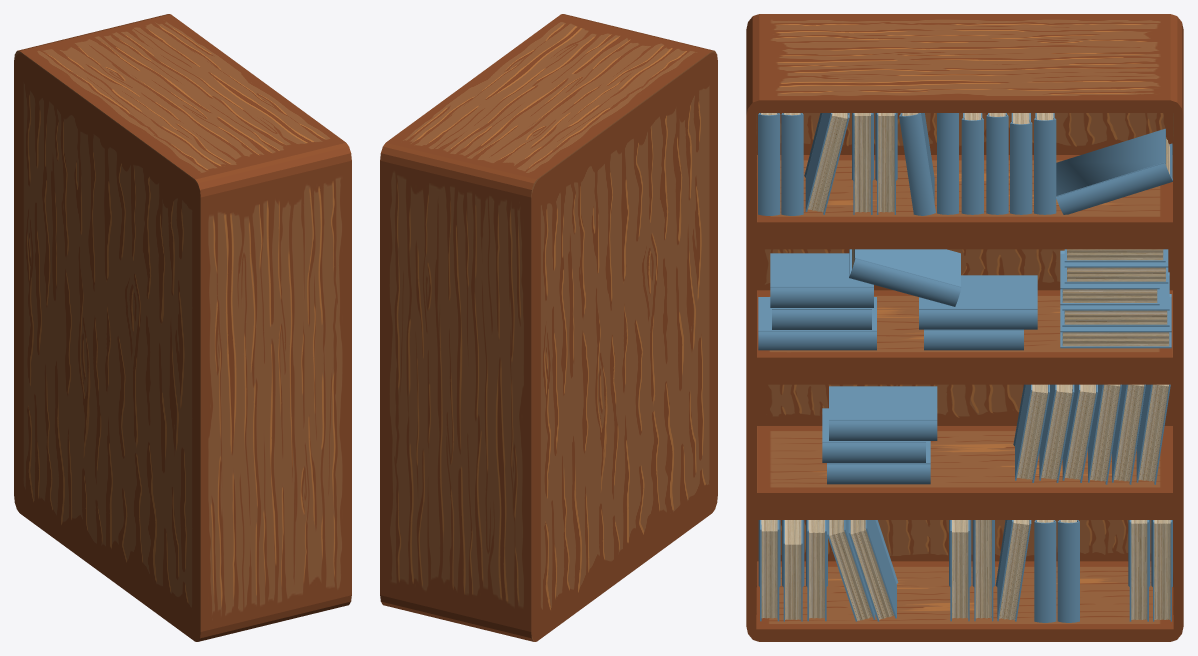
Rendered from bookshelve.fbx.
3 renders of one model, left to right at view 1: azimuth 30°, elevation 25°; view 2: azimuth 150°, elevation 25°; view 3: azimuth 270°, elevation 25°, orthographic. The views are drawn at different scales.
Visible parts, largest first — view 1: Shelf_1; view 2: Shelf_1; view 3: Shelf_1.
Boxes of the visible parts, x1,y1,x2,y2 form: Shelf_1: (14,14,351,641); Shelf_1: (380,14,717,641); Shelf_1: (746,14,1183,641).
Size of the model in its own units: 57.87 by 169 by 124.
3 materials, 2 textured.
